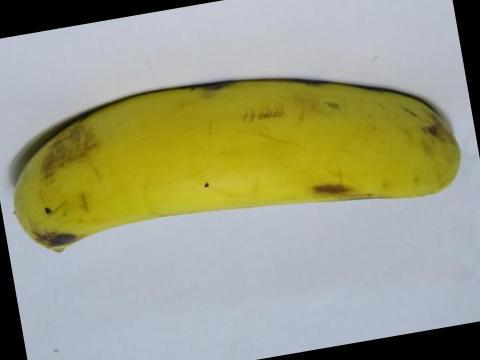freshripe: (5, 62, 478, 265)
